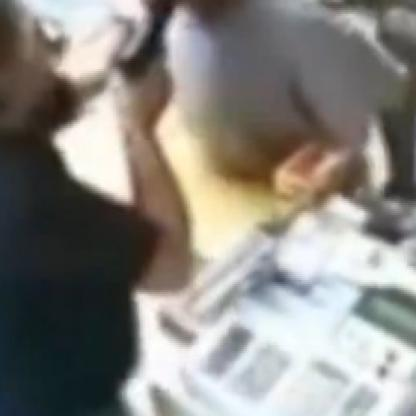gun: (96, 0, 183, 107)
